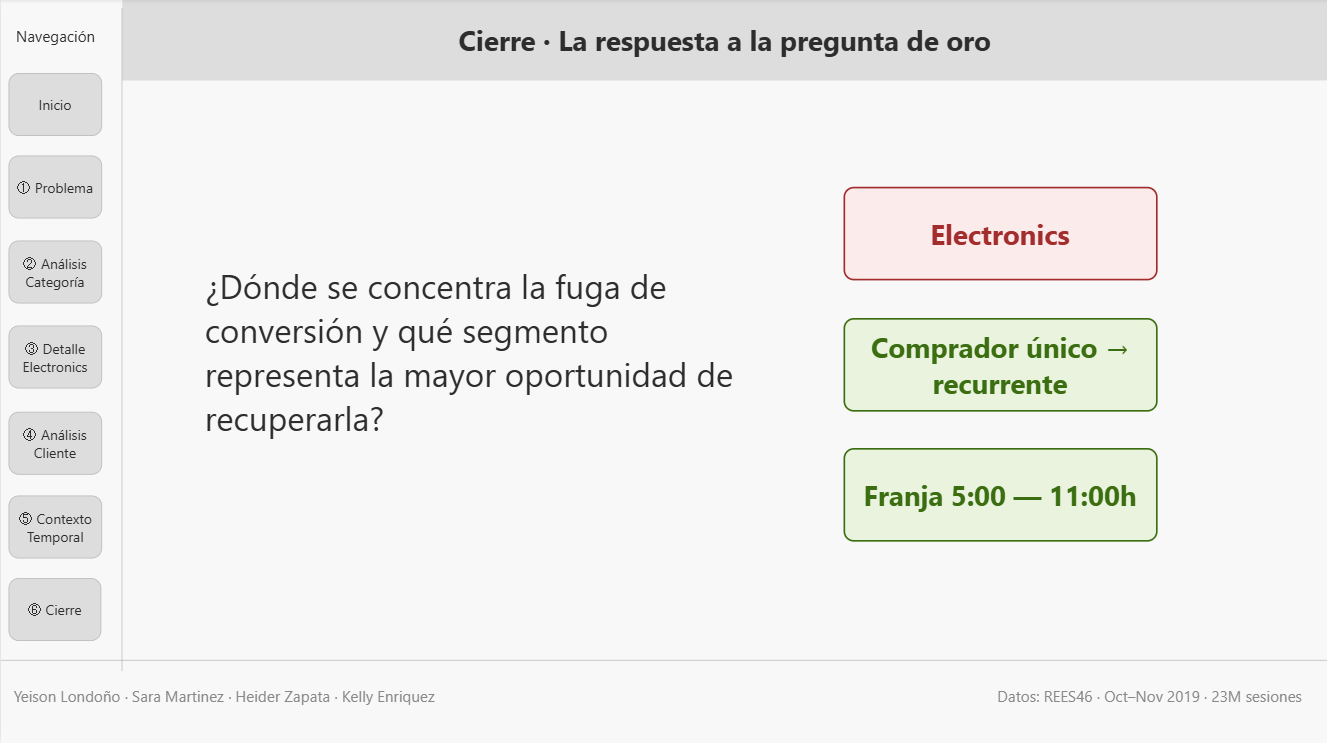

The page's visual inventory and layout, read from the dashboard file:
{"tool":"powerbi","page":{"name":"Cierre","canvas":[1280,720],"ordinal":6},"visuals":[{"type":"shape","box":[117,0,1163,79.6],"z":0},{"type":"shape","box":[196.6,222,538.1,237.7],"z":1000},{"type":"shape","box":[0,558.2,1280.3,161.3],"z":2000},{"type":"textbox","box":[7.6,659,427.2,39.1],"z":3000},{"type":"textbox","box":[833.7,658.7,427.1,39.8],"z":4000},{"type":"shape","box":[10,10,214.2,640.1],"z":5000},{"type":"actionButton","box":[7.6,71.8,90,60.5],"z":6000},{"type":"textbox","box":[5,21.4,95.8,30.2],"z":7000},{"type":"shape","box":[813.1,182.2,302.8,90.5],"z":8000},{"type":"shape","box":[813.1,308.8,302.8,90.5],"z":9000},{"type":"shape","box":[813.1,434.3,302.8,90.5],"z":10000},{"type":"actionButton","box":[7.6,234.4,90,60.5],"z":11000},{"type":"actionButton","box":[7.6,480.1,90.7,60.5],"z":12000},{"type":"actionButton","box":[7.6,399.4,90,60.5],"z":13000},{"type":"actionButton","box":[7.6,559.5,89.5,60.5],"z":14000},{"type":"actionButton","box":[7.6,316.3,90,60.5],"z":15000},{"type":"actionButton","box":[7.6,152.5,90,60.5],"z":16000}]}

Visuals, with their boxes on the page's 1280x720 design canvas (x1, y1, x2, y2). These are canvas units, not pixel positions in the 1327x743 screenshot, which may show the page scaled, cropped or inside an application window:
shape: crop(117, 0, 1280, 80)
shape: crop(197, 222, 735, 460)
shape: crop(0, 558, 1280, 720)
textbox: crop(8, 659, 435, 698)
textbox: crop(834, 659, 1261, 698)
shape: crop(10, 10, 224, 650)
actionButton: crop(8, 72, 98, 132)
textbox: crop(5, 21, 101, 52)
shape: crop(813, 182, 1116, 273)
shape: crop(813, 309, 1116, 399)
shape: crop(813, 434, 1116, 525)
actionButton: crop(8, 234, 98, 295)
actionButton: crop(8, 480, 98, 541)
actionButton: crop(8, 399, 98, 460)
actionButton: crop(8, 560, 97, 620)
actionButton: crop(8, 316, 98, 377)
actionButton: crop(8, 152, 98, 213)
